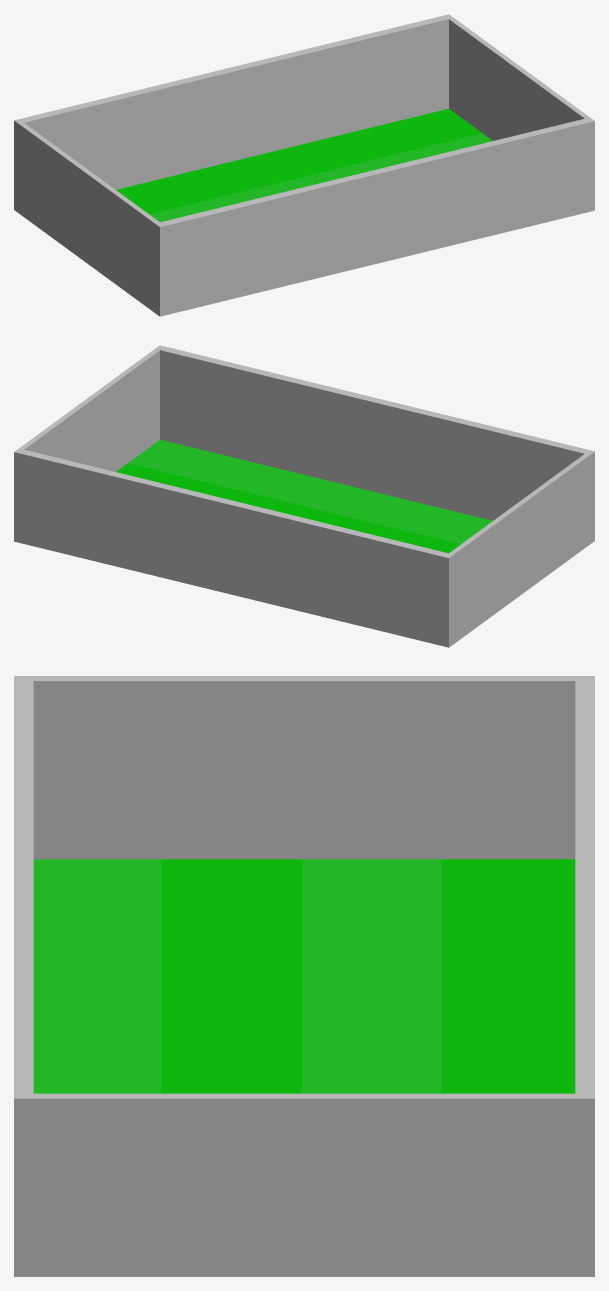
Rendered from Footballturf.fbx.
3 views of the same model, one above another, from view 1: azimuth 30°, elevation 25°; view 2: azimuth 150°, elevation 25°; view 3: azimuth 270°, elevation 25° (orthographic). The views are drawn at different scales.
Parts seen in each view (by area): view 1: Cube.001, meshes[1]-0, meshes[1]-1; view 2: Cube.001, meshes[1]-1, meshes[1]-0; view 3: Cube.001, meshes[1]-0, meshes[1]-1.
Part boxes in pixels (box(x1,y1,x2,y2)): Cube.001: box(14, 14, 594, 316); meshes[1]-0: box(116, 108, 481, 214); meshes[1]-1: box(149, 133, 492, 222); Cube.001: box(14, 345, 594, 647); meshes[1]-1: box(128, 439, 492, 544); meshes[1]-0: box(116, 463, 460, 553); Cube.001: box(14, 676, 594, 1276); meshes[1]-0: box(161, 859, 575, 1093); meshes[1]-1: box(33, 859, 441, 1093).
Size of the model in its own units: 51.55 by 10.14 by 29.95.
